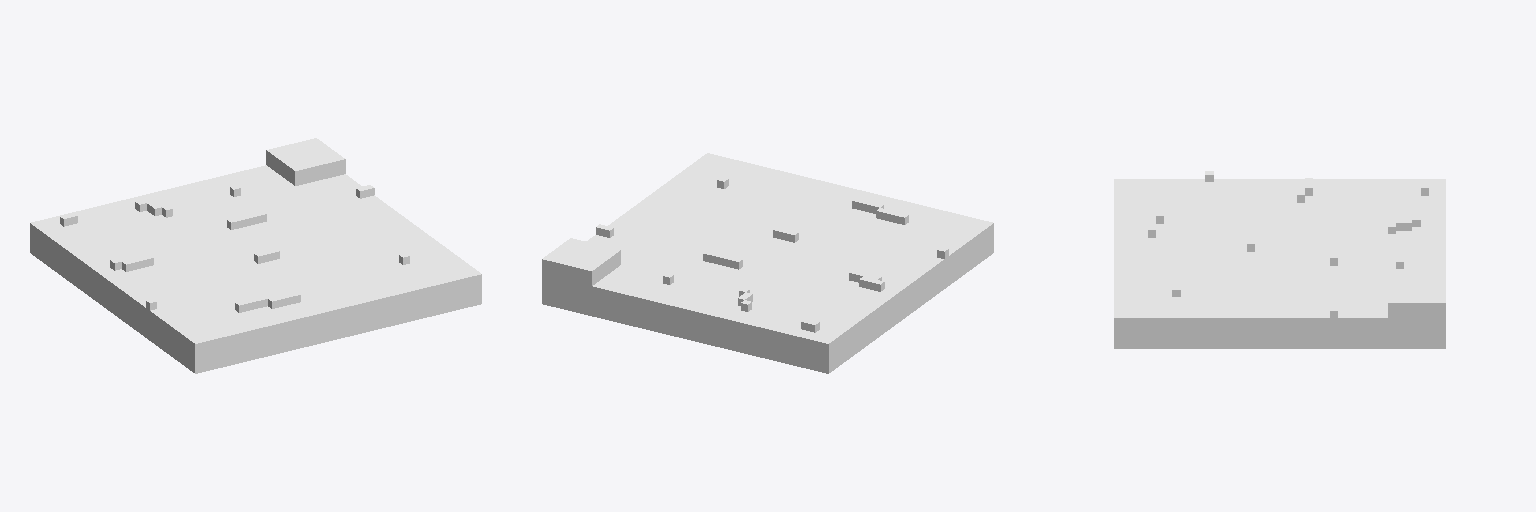
Rendered from GrassCornerIn.obj.
3 renders of one model, left to right at view 1: azimuth 30°, elevation 25°; view 2: azimuth 150°, elevation 25°; view 3: azimuth 270°, elevation 25°, orthographic.
Visible parts, largest first — view 1: GrassCornerIn; view 2: GrassCornerIn; view 3: GrassCornerIn.
Part boxes in pixels (left/top/right/bottom): GrassCornerIn: left=30, top=138, right=481, bottom=373; GrassCornerIn: left=542, top=153, right=993, bottom=373; GrassCornerIn: left=1114, top=171, right=1445, bottom=348.
Size of the model in its own units: 40 by 6 by 40.